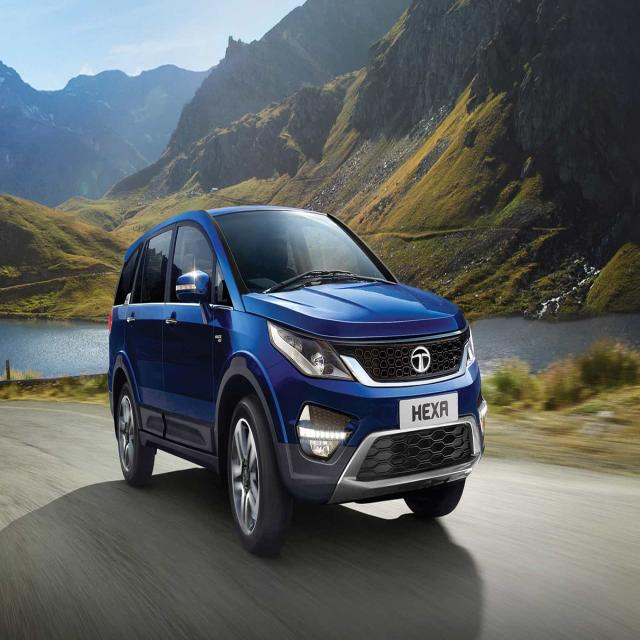Car: (86, 188, 496, 550)
